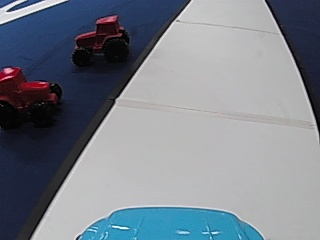tractor: (0, 64, 61, 128), (69, 14, 130, 66)
